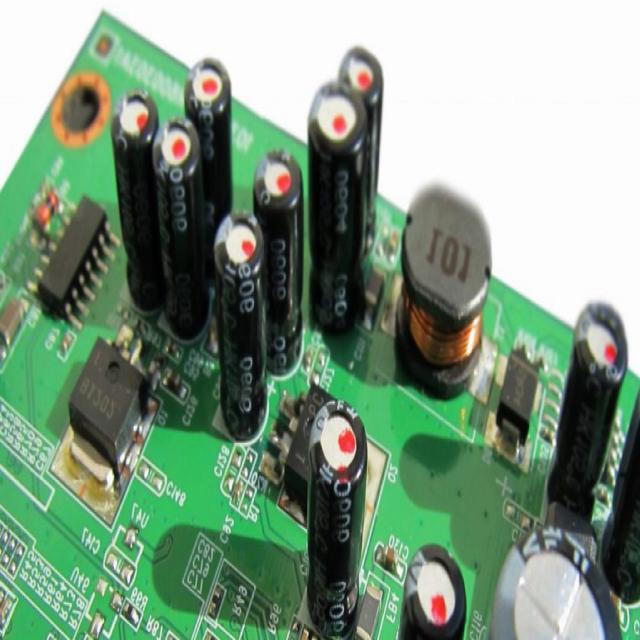Hazard: (0, 11, 635, 640)
